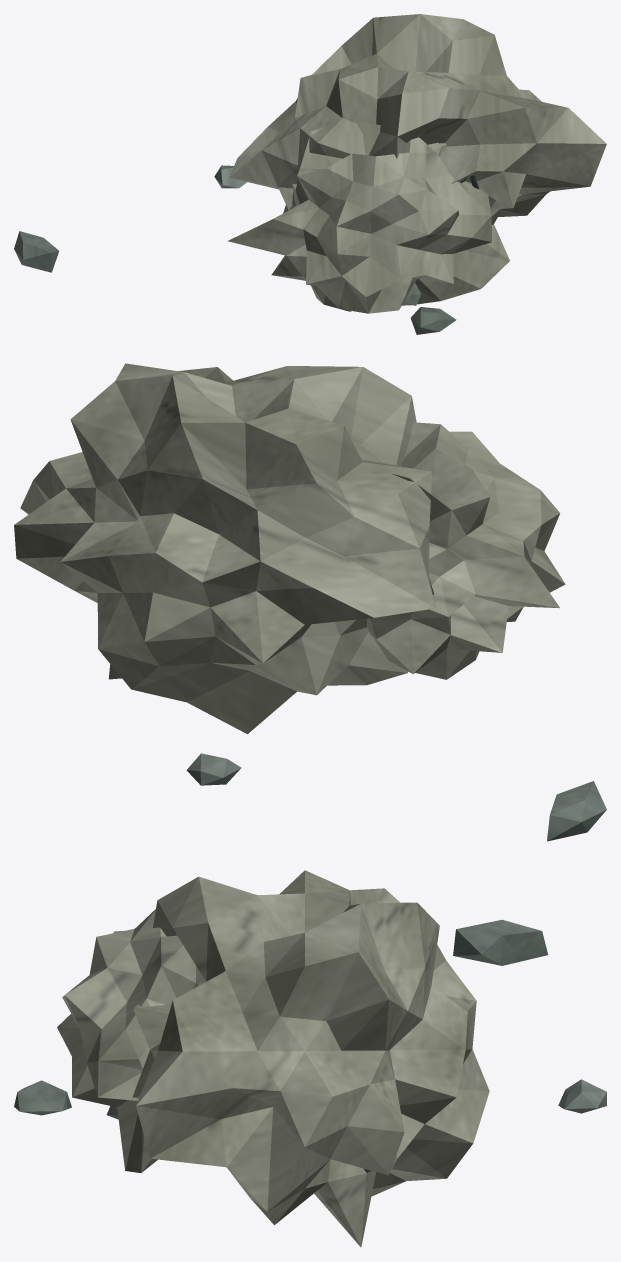
Rendered from 0001_boulder_01.glb.
3 renders of one model, top to bottom at view 1: azimuth 30°, elevation 25°; view 2: azimuth 150°, elevation 25°; view 3: azimuth 270°, elevation 25°, orthographic. The views are drawn at different scales.
Parts seen in each view (by area): view 1: stone_light, stone; view 2: stone_light, stone; view 3: stone_light, stone.
Boxes of the visible parts, <box> form: stone_light: <box>227,14,606,313</box>; stone: <box>14,165,456,334</box>; stone_light: <box>14,363,565,733</box>; stone: <box>186,753,606,841</box>; stone_light: <box>57,870,489,1247</box>; stone: <box>14,919,606,1119</box>.
Bounding box in the file's own units: 2.71 × 1.26 × 2.03.
3 materials, 3 textured.
